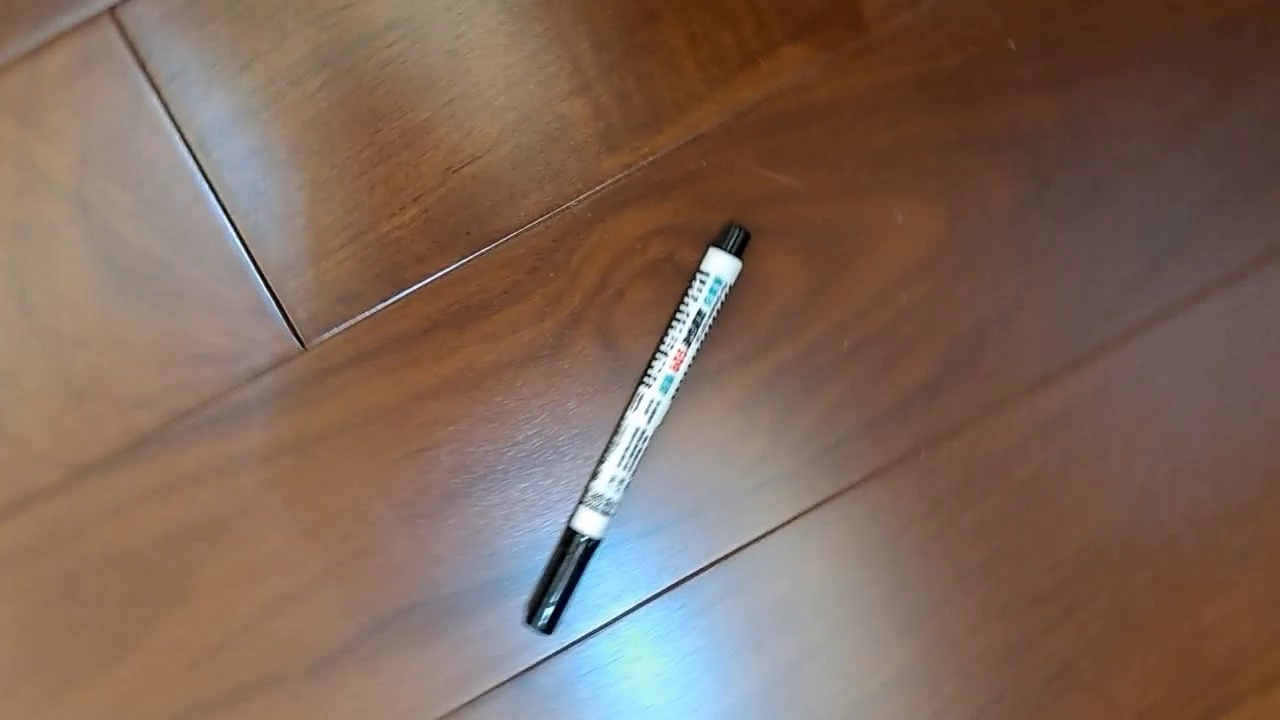pen: (521, 218, 752, 637)
